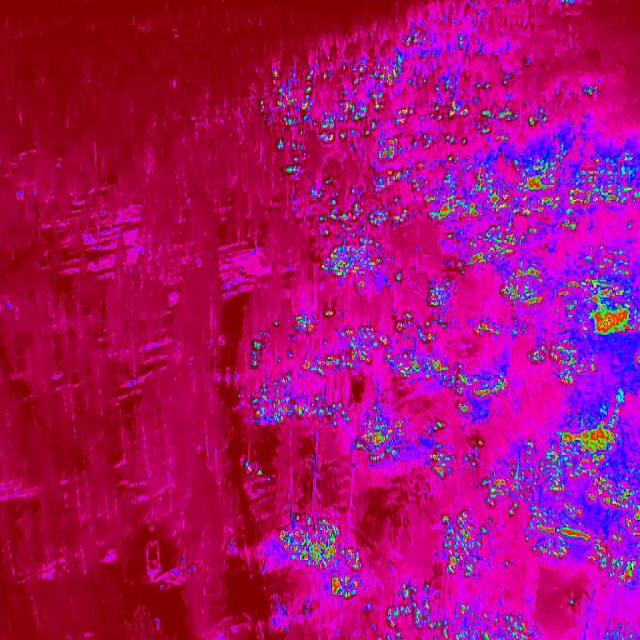fire: (258, 48, 540, 180), (483, 392, 640, 589), (245, 317, 516, 398), (318, 180, 508, 284), (510, 156, 640, 230), (274, 511, 363, 601), (389, 584, 528, 640), (560, 249, 640, 342), (254, 378, 354, 440), (434, 510, 496, 582), (352, 401, 405, 465), (502, 230, 544, 308), (526, 346, 600, 390), (428, 421, 458, 481), (236, 456, 274, 486), (400, 24, 432, 50), (578, 80, 605, 102), (454, 400, 472, 420)
